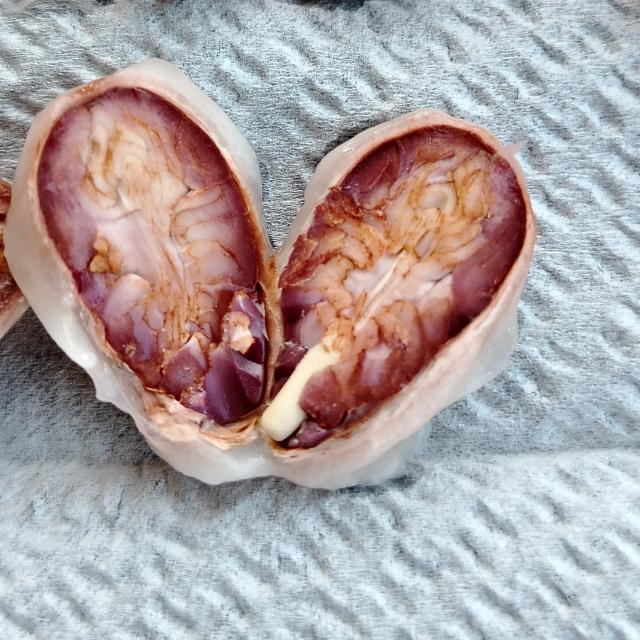Trinitario: (0, 51, 258, 465), (270, 111, 525, 488)
